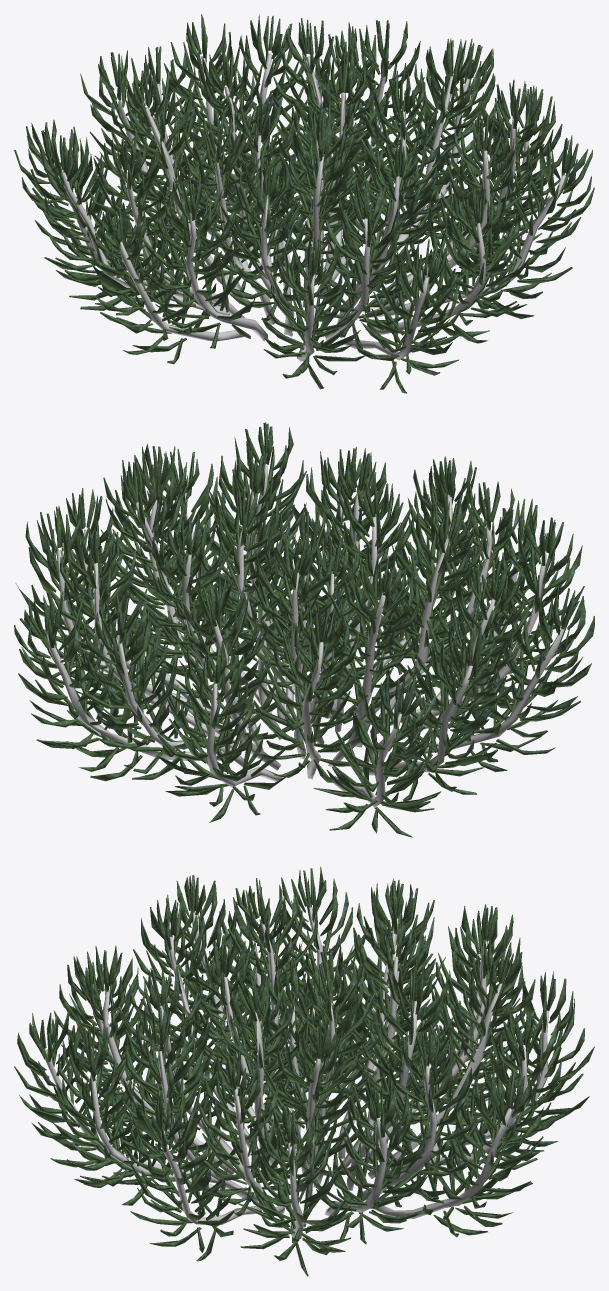
The model's file is senecio-1.gltf.
The picture shows the model from 3 angles, top to bottom: view 1: azimuth 30°, elevation 25°; view 2: azimuth 150°, elevation 25°; view 3: azimuth 270°, elevation 25°; orthographic projection. The views are drawn at different scales.
Visible parts, largest first — view 1: senecio-1; view 2: senecio-1; view 3: senecio-1.
Boxes of the visible parts, box(x1,y1,x2,y2) form: senecio-1: box(14, 14, 594, 393); senecio-1: box(14, 422, 594, 837); senecio-1: box(14, 866, 594, 1276).
Size of the model in its own units: 1.67 by 0.7955 by 1.68.
